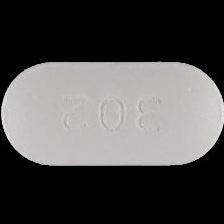60429-656: (0, 0, 224, 224)
